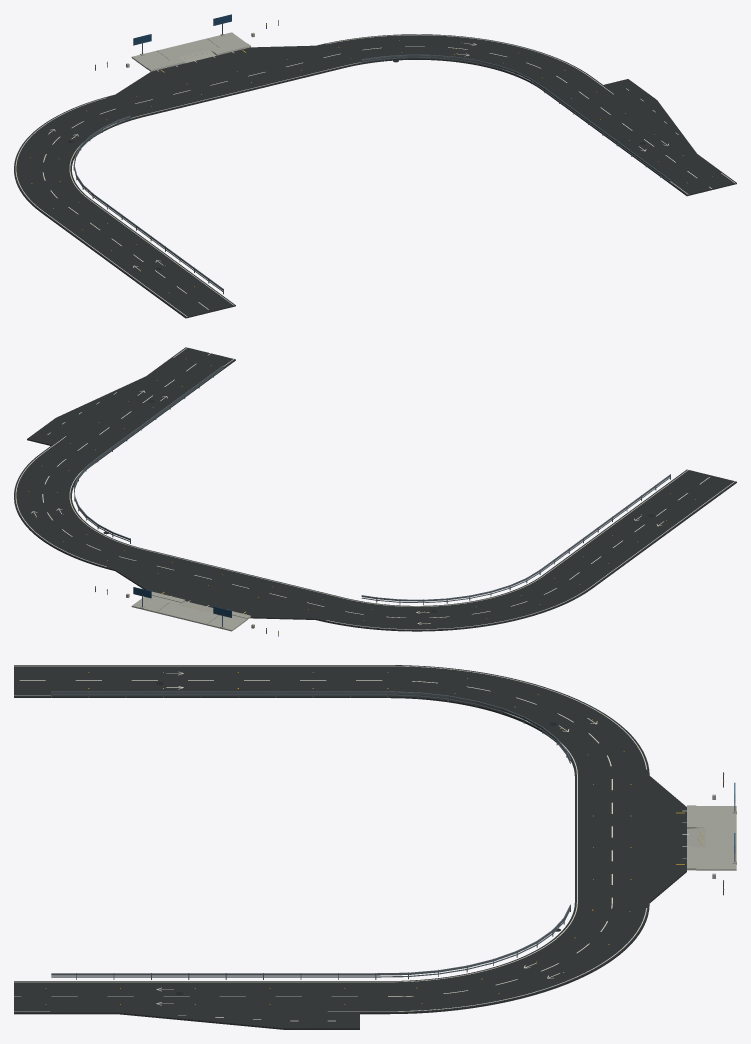
The picture shows the model from 3 angles, top to bottom: view 1: azimuth 30°, elevation 25°; view 2: azimuth 150°, elevation 25°; view 3: azimuth 270°, elevation 25°; orthographic projection. The views are drawn at different scales.
Visible parts, largest first — view 1: VIS_Roadway_Pavement__Asphalt, VIS_Terminal_Pullout_Asphalt__Asphalt, VIS_4m_Merge_Slip_Asphalt__Asphalt, VIS_Metal_Crash_Barrier_Rail__GuardSteel, VIS_Road_Edge_Solid__PaintWhite, VIS_Barrier_Lower_Rail__GuardSteel, VIS_Terminal_Walkway_West__Concrete, VIS_Lane_Dashes_White__PaintWhite, VIS_Terminal_Walkway_East__Concrete; view 2: VIS_Roadway_Pavement__Asphalt, VIS_Terminal_Pullout_Asphalt__Asphalt, VIS_4m_Merge_Slip_Asphalt__Asphalt, VIS_Road_Edge_Solid__PaintWhite, VIS_Metal_Crash_Barrier_Rail__GuardSteel, VIS_Barrier_Lower_Rail__GuardSteel, VIS_Terminal_Walkway_East__Concrete, VIS_Lane_Dashes_White__PaintWhite, VIS_Terminal_Walkway_West__Concrete; view 3: VIS_Roadway_Pavement__Asphalt, VIS_Terminal_Pullout_Asphalt__Asphalt, VIS_Metal_Crash_Barrier_Rail__GuardSteel, VIS_4m_Merge_Slip_Asphalt__Asphalt, VIS_Road_Edge_Solid__PaintWhite, VIS_Barrier_Lower_Rail__GuardSteel, VIS_Terminal_Walkway_East__Concrete, VIS_Terminal_Walkway_West__Concrete, VIS_Lane_Dashes_White__PaintWhite, VIS_Central_Walkway__Concrete.
Boxes of the visible parts, <box> form: VIS_Roadway_Pavement__Asphalt: <box>14,34,736,318</box>; VIS_Terminal_Pullout_Asphalt__Asphalt: <box>116,45,314,94</box>; VIS_4m_Merge_Slip_Asphalt__Asphalt: <box>603,79,696,153</box>; VIS_Metal_Crash_Barrier_Rail__GuardSteel: <box>73,54,670,290</box>; VIS_Road_Edge_Solid__PaintWhite: <box>15,34,735,316</box>; VIS_Barrier_Lower_Rail__GuardSteel: <box>74,57,670,291</box>; VIS_Terminal_Walkway_West__Concrete: <box>131,48,180,68</box>; VIS_Lane_Dashes_White__PaintWhite: <box>42,46,711,309</box>; VIS_Terminal_Walkway_East__Concrete: <box>198,32,246,51</box>; VIS_Roadway_Pavement__Asphalt: <box>14,347,736,631</box>; VIS_Terminal_Pullout_Asphalt__Asphalt: <box>115,570,315,619</box>; VIS_4m_Merge_Slip_Asphalt__Asphalt: <box>27,377,144,445</box>; VIS_Road_Edge_Solid__PaintWhite: <box>15,347,735,629</box>; VIS_Metal_Crash_Barrier_Rail__GuardSteel: <box>74,365,670,601</box>; VIS_Barrier_Lower_Rail__GuardSteel: <box>74,368,670,602</box>; VIS_Terminal_Walkway_East__Concrete: <box>131,595,181,615</box>; VIS_Lane_Dashes_White__PaintWhite: <box>42,353,709,617</box>; VIS_Terminal_Walkway_West__Concrete: <box>197,611,247,631</box>; VIS_Roadway_Pavement__Asphalt: <box>14,665,649,1014</box>; VIS_Terminal_Pullout_Asphalt__Asphalt: <box>649,776,686,902</box>; VIS_Metal_Crash_Barrier_Rail__GuardSteel: <box>51,691,570,975</box>; VIS_4m_Merge_Slip_Asphalt__Asphalt: <box>116,1012,359,1029</box>; VIS_Road_Edge_Solid__PaintWhite: <box>14,665,647,1011</box>; VIS_Barrier_Lower_Rail__GuardSteel: <box>51,694,570,977</box>; VIS_Terminal_Walkway_East__Concrete: <box>696,847,736,870</box>; VIS_Terminal_Walkway_West__Concrete: <box>696,806,736,828</box>; VIS_Lane_Dashes_White__PaintWhite: <box>14,680,612,996</box>; VIS_Central_Walkway__Concrete: <box>705,827,736,847</box>.
Bounding box in the file's own units: 92 × 3.16 × 77.34.
10 materials, 10 textured.
